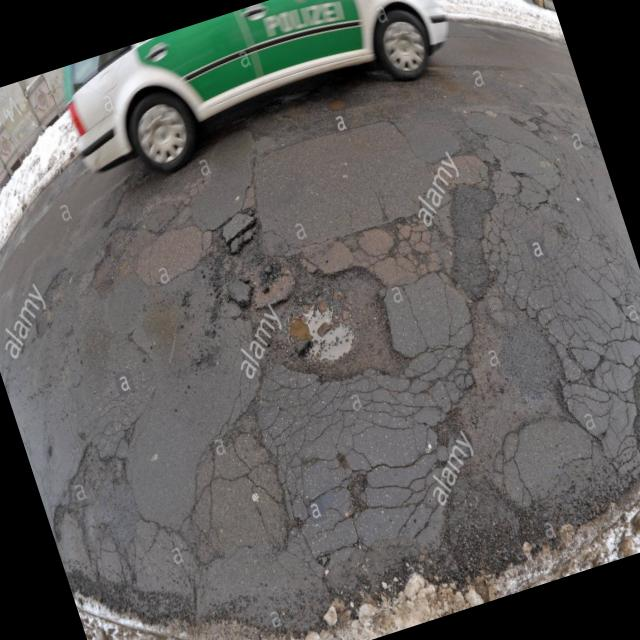Potholes: (180, 157, 438, 426)
